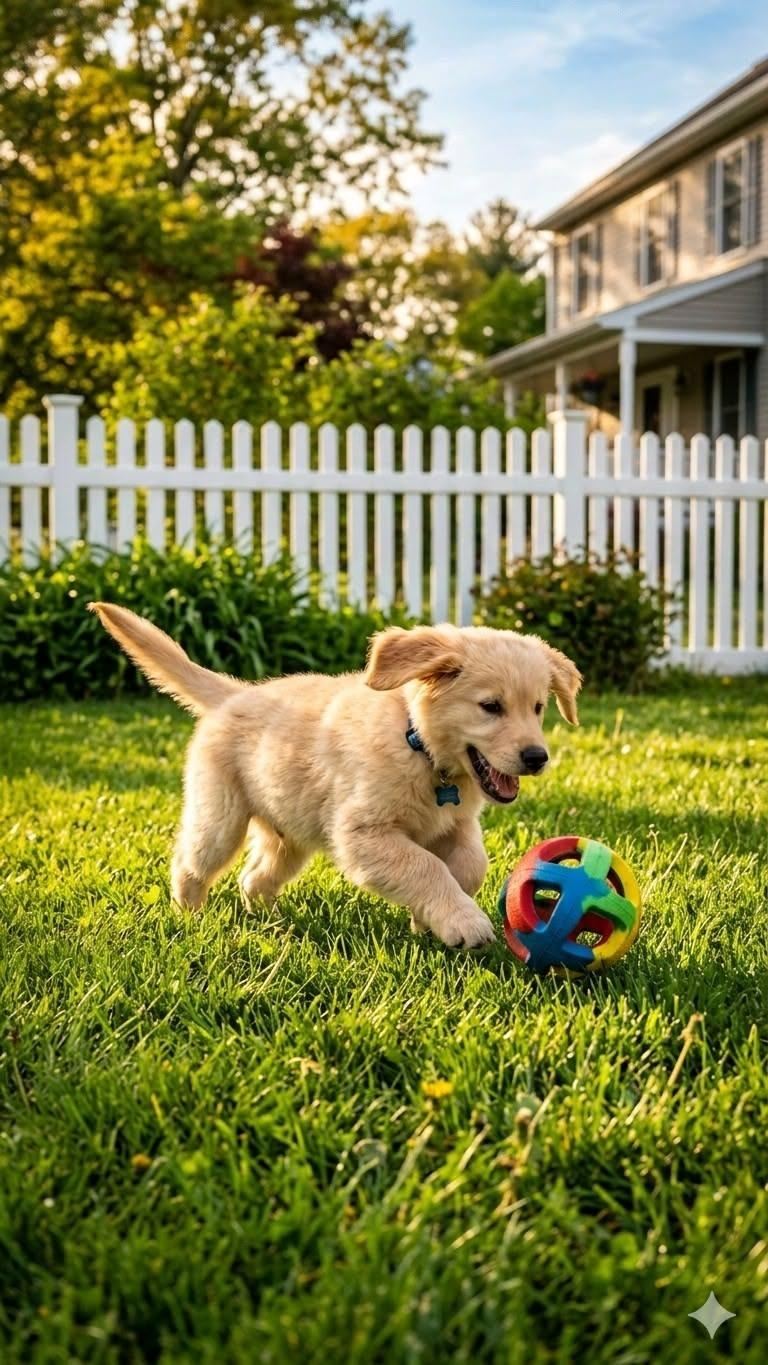non-dog: (496, 835, 643, 978)
puppy-dog: (87, 599, 585, 951)
